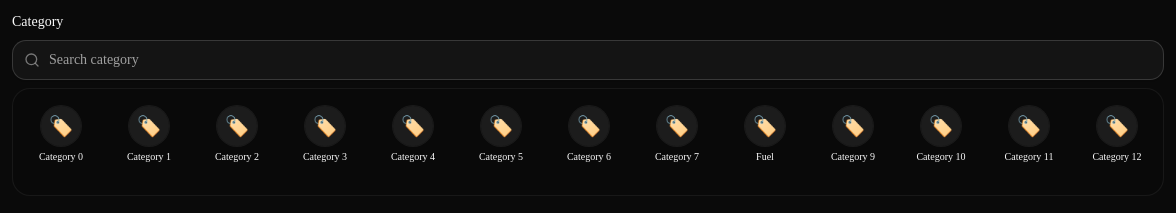
Test: IconGridPicker › shows search for larger lists and filters visible tiles
This screenshot has width=1176, height=213.
Type "fuel" into the search field labelled "Search category" at (588, 60), box [12,40,1164,80]
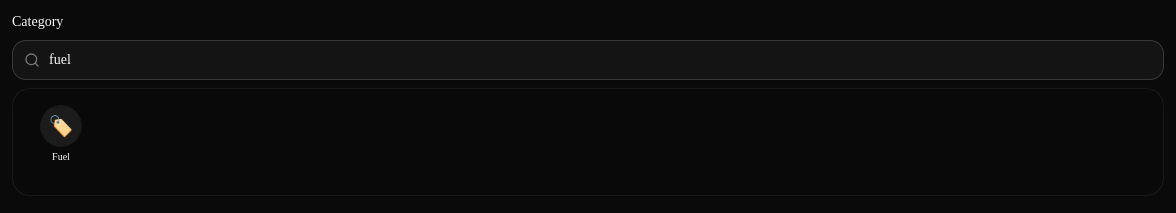
Expected: the radio button labelled "Fuel" is shown, [21,97,101,187]
Expected: the radio button labelled "Category 1" is gone
